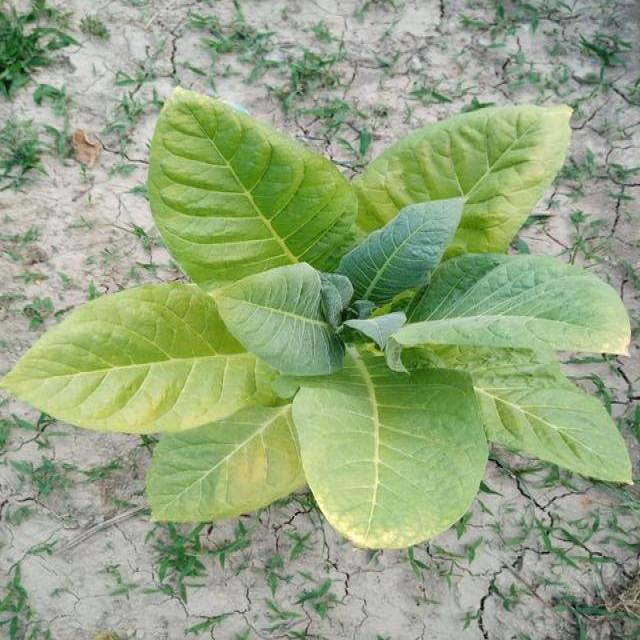crop: (22, 95, 640, 565)
